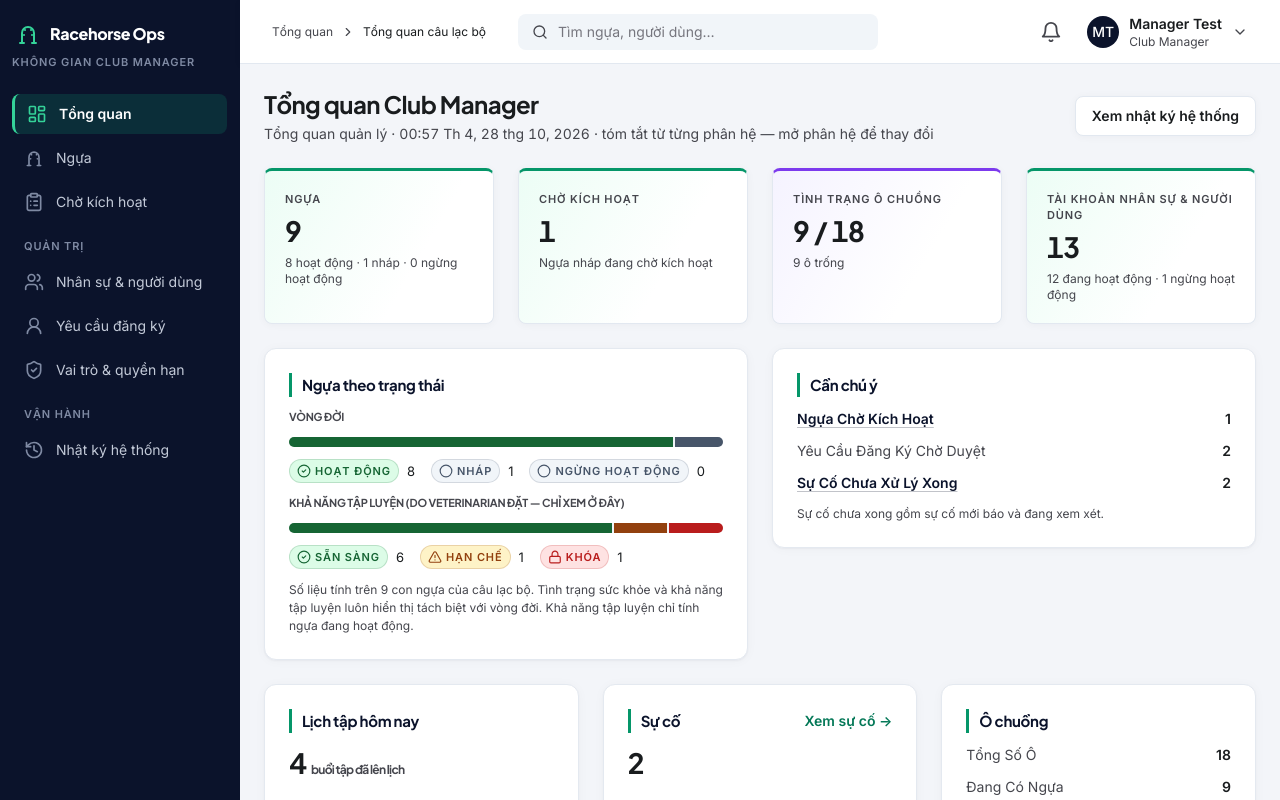
Test: CORE-052 dashboard › shows contract-backed management widgets and opens the audit viewer
The image size is (1280, 800).
Expected: the text "9 / 18" is shown, [793,213,864,248]
Expected: the text "8 hoạt động · 1 nháp · 0 ngừng hoạt động" is shown, [285,255,473,287]
Click the link "Xem nhật ký hệ thống" at (1165, 116), box [1075,96,1256,136]
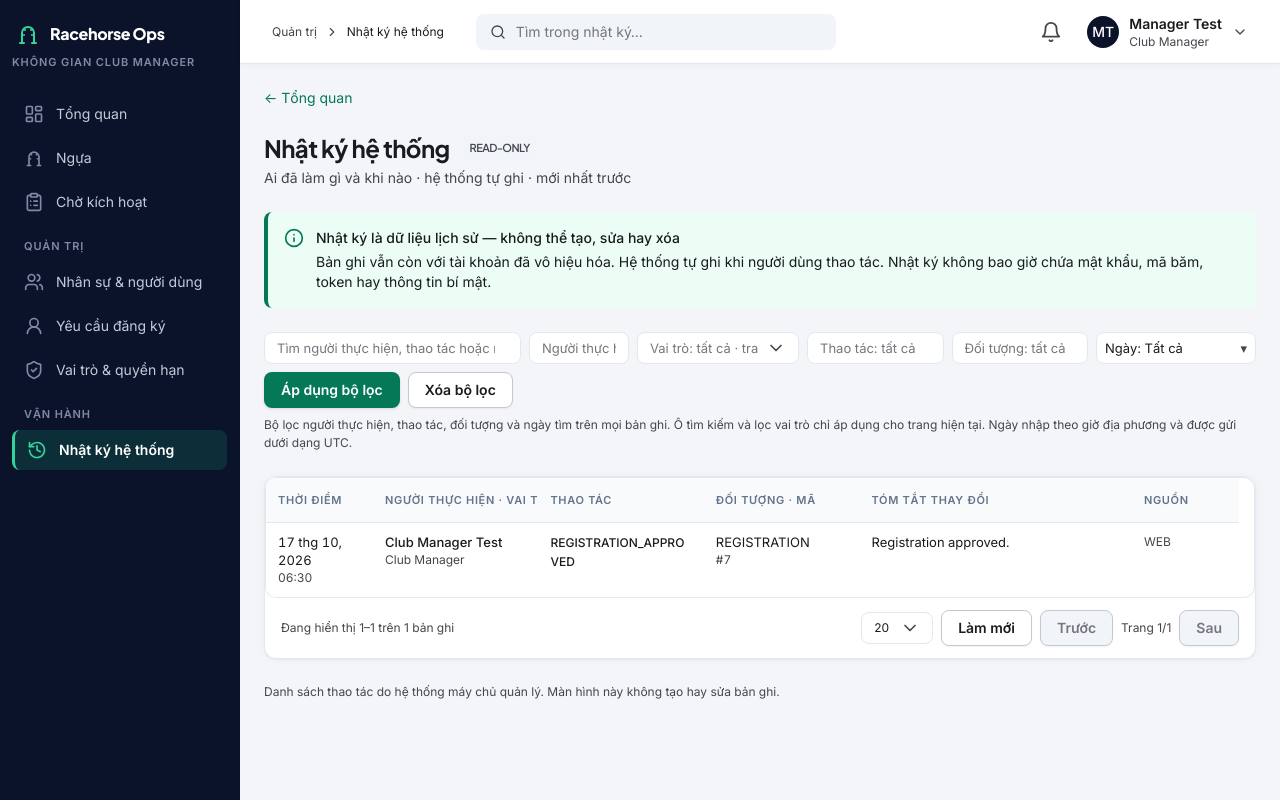
Now the heading "Nhật ký hệ thống Read-only" is shown, box [264,133,538,163]
